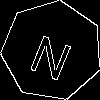N: (26, 26, 78, 82)
